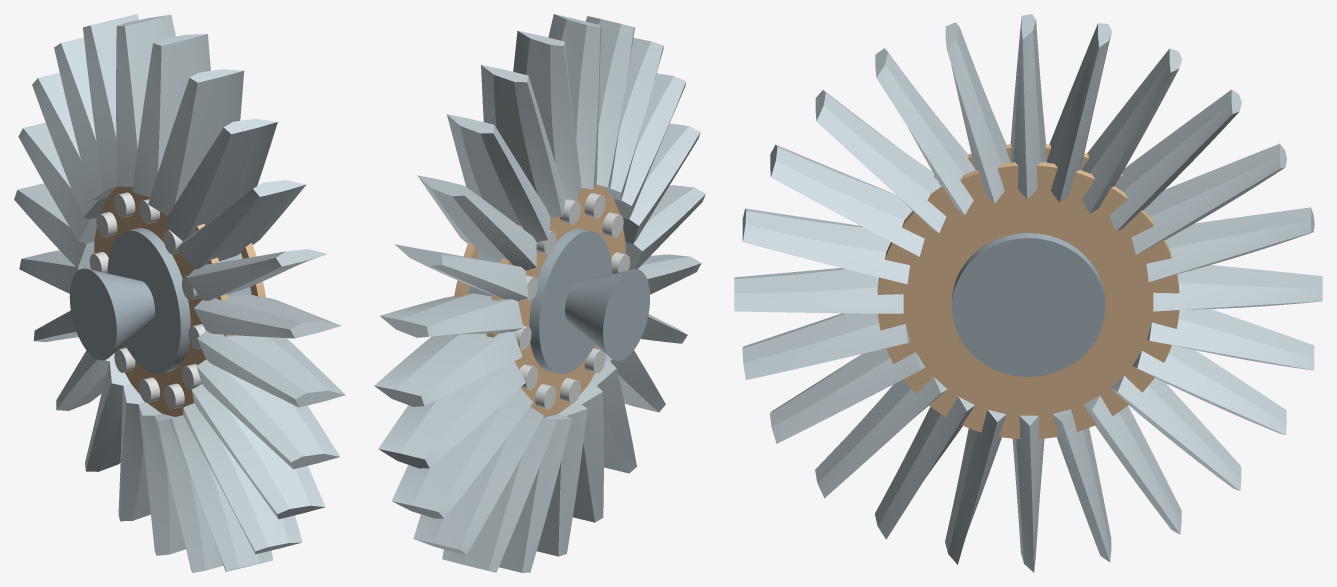
The model's file is rotor-stage.glb.
The picture shows the model from 3 angles, left to right: view 1: azimuth 30°, elevation 25°; view 2: azimuth 150°, elevation 25°; view 3: azimuth 270°, elevation 25°; orthographic projection. The views are drawn at different scales.
Visible parts, largest first — view 1: rotor-stage - blade, rotor-stage - steel, rotor-stage - bronze, rotor-stage - fastener; view 2: rotor-stage - blade, rotor-stage - steel, rotor-stage - bronze, rotor-stage - fastener; view 3: rotor-stage - blade, rotor-stage - bronze, rotor-stage - steel.
Boxes of the visible parts, x1,y1,x2,y2 form: rotor-stage - blade: [14, 14, 345, 572]; rotor-stage - steel: [69, 228, 251, 373]; rotor-stage - bronze: [94, 186, 266, 416]; rotor-stage - fastener: [89, 192, 205, 408]; rotor-stage - blade: [374, 14, 705, 572]; rotor-stage - steel: [468, 228, 649, 374]; rotor-stage - bronze: [454, 184, 625, 417]; rotor-stage - fastener: [514, 193, 630, 409]; rotor-stage - blade: [734, 14, 1322, 572]; rotor-stage - bronze: [877, 144, 1179, 438]; rotor-stage - steel: [952, 161, 1104, 376].
Bounding box in the file's own units: 0.372 × 1.46 × 1.46.
